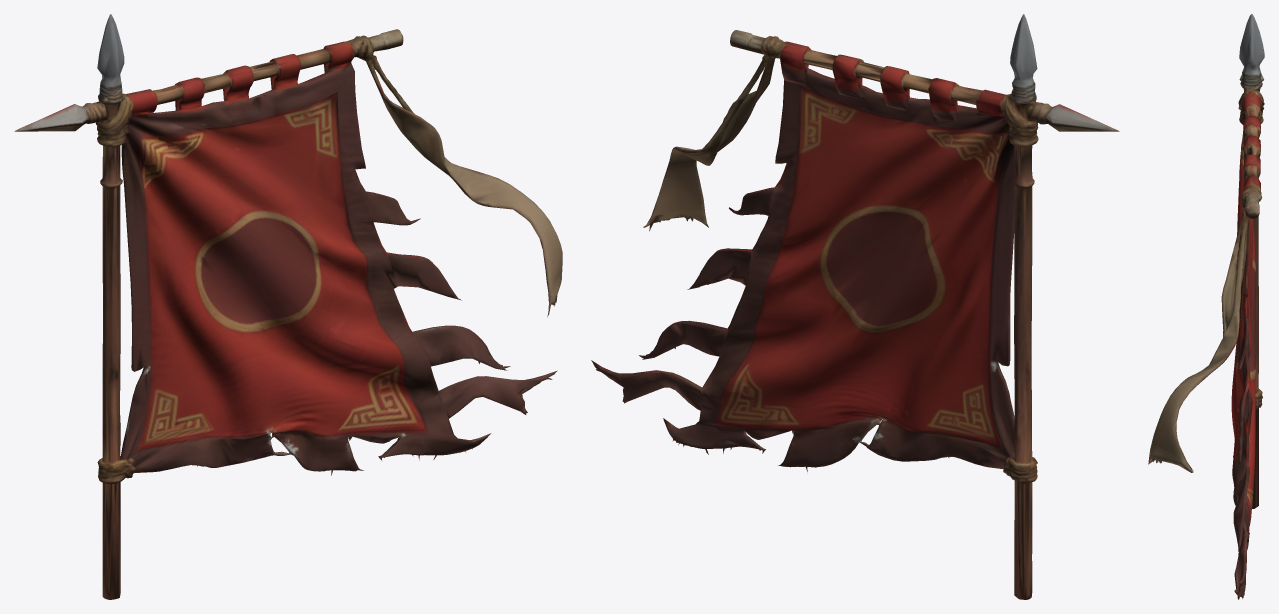
The model's file is banner-red-hy3-v1.glb.
3 renders of one model, left to right at view 1: azimuth 30°, elevation 25°; view 2: azimuth 150°, elevation 25°; view 3: azimuth 270°, elevation 25°, orthographic. The views are drawn at different scales.
Visible parts, largest first — view 1: node_0; view 2: node_0; view 3: node_0.
Boxes of the visible parts, left/top/right/bottom form: node_0: left=14, top=14, right=562, bottom=599; node_0: left=591, top=14, right=1119, bottom=599; node_0: left=1148, top=14, right=1264, bottom=599.
Size of the model in its own units: 3.66 by 3.8 by 0.8151.
1 material, 1 textured.
